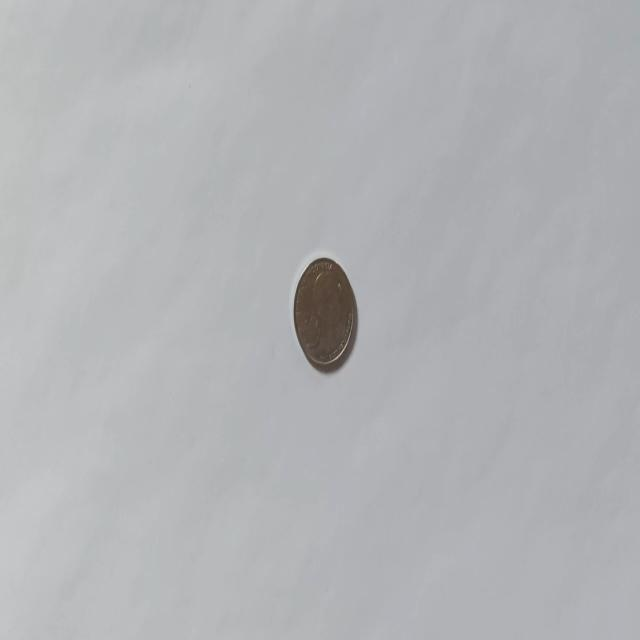seribu rupiah koin: (292, 254, 356, 372)
